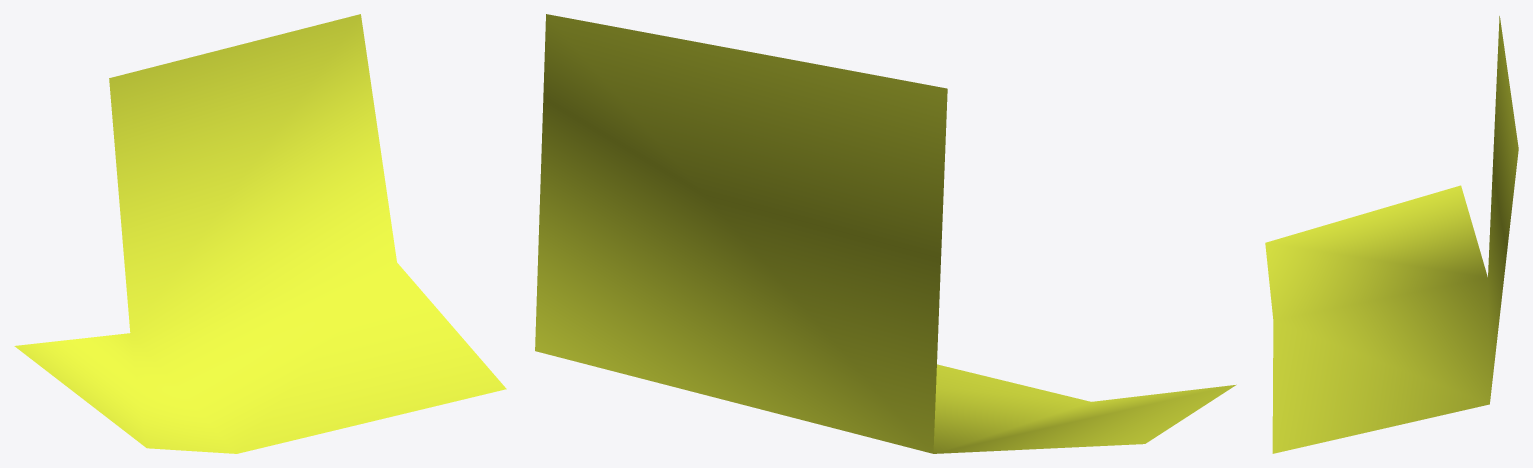
Rendered from b_polySurface755_b_BMW_i8Elite_2_744.glb.
3 views of the same model, side by side, from view 1: azimuth 30°, elevation 25°; view 2: azimuth 150°, elevation 25°; view 3: azimuth 270°, elevation 25° (orthographic). The views are drawn at different scales.
Parts seen in each view (by area): view 1: b:polySurface755_b:BMW_i8Elite_2017CalliperGloss_Material1_0; view 2: b:polySurface755_b:BMW_i8Elite_2017CalliperGloss_Material1_0; view 3: b:polySurface755_b:BMW_i8Elite_2017CalliperGloss_Material1_0.
Boxes of the visible parts, x1,y1,x2,y2 form: b:polySurface755_b:BMW_i8Elite_2017CalliperGloss_Material1_0: [14, 14, 506, 453]; b:polySurface755_b:BMW_i8Elite_2017CalliperGloss_Material1_0: [535, 14, 1236, 453]; b:polySurface755_b:BMW_i8Elite_2017CalliperGloss_Material1_0: [1265, 16, 1518, 453].
Size of the model in its own units: 0.0587 by 0.0419 by 0.0321.
